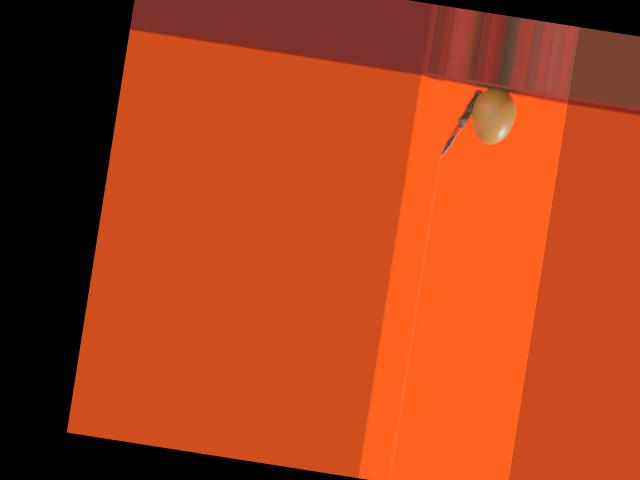egg: (467, 85, 518, 146)
